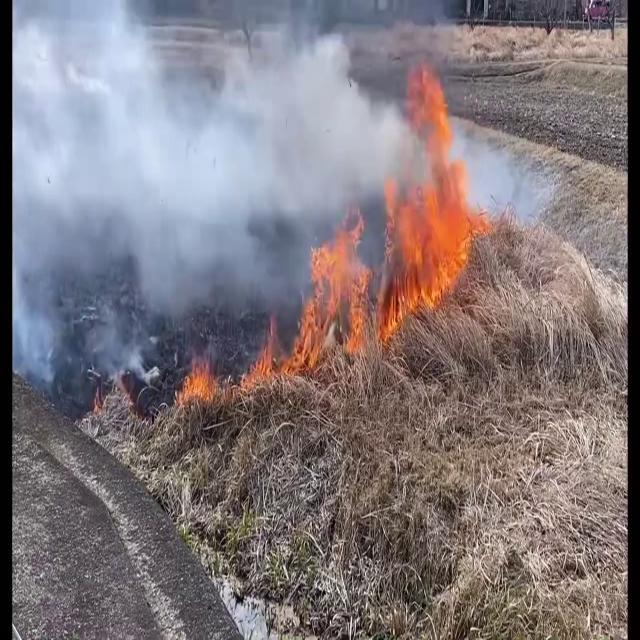Fire: (388, 61, 492, 314), (293, 211, 380, 373), (175, 342, 283, 412)
Smoke: (15, 0, 445, 399)
